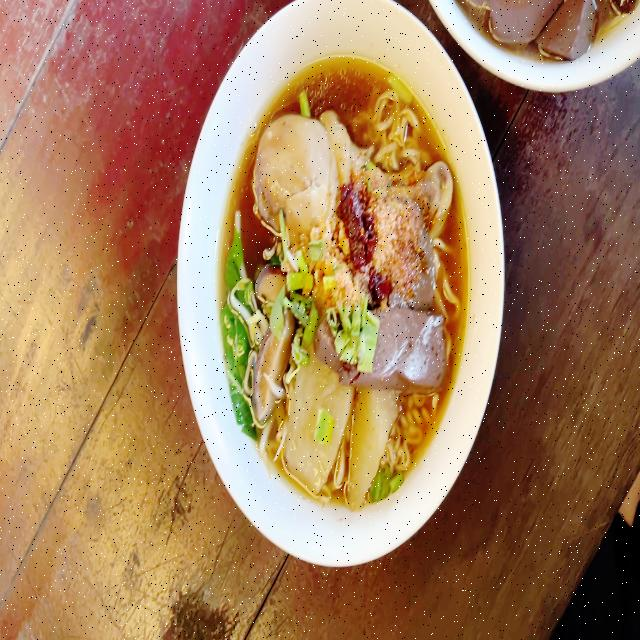boiled_chicken_blood_jelly: (472, 0, 601, 62), (375, 305, 445, 395), (420, 224, 436, 310), (317, 322, 339, 362)
chicken_drumstick: (256, 112, 454, 231)
daikon_radish: (289, 378, 398, 498)
noodle: (238, 79, 457, 503)
